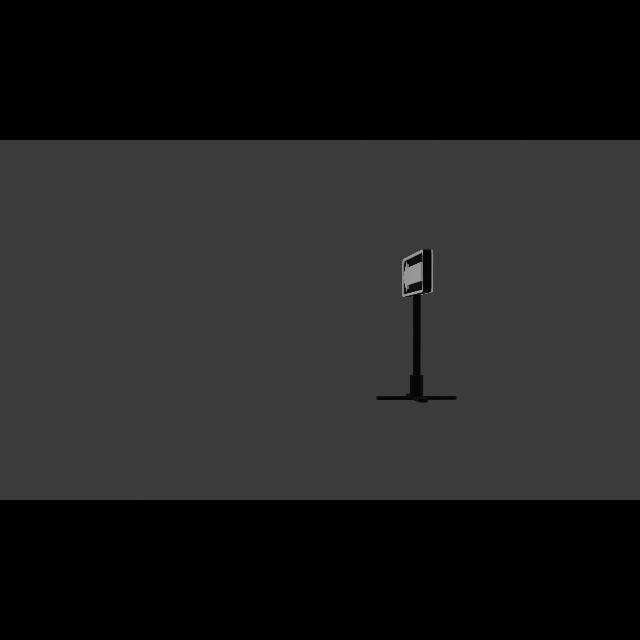sign_oneway_left: (401, 248, 436, 300)
